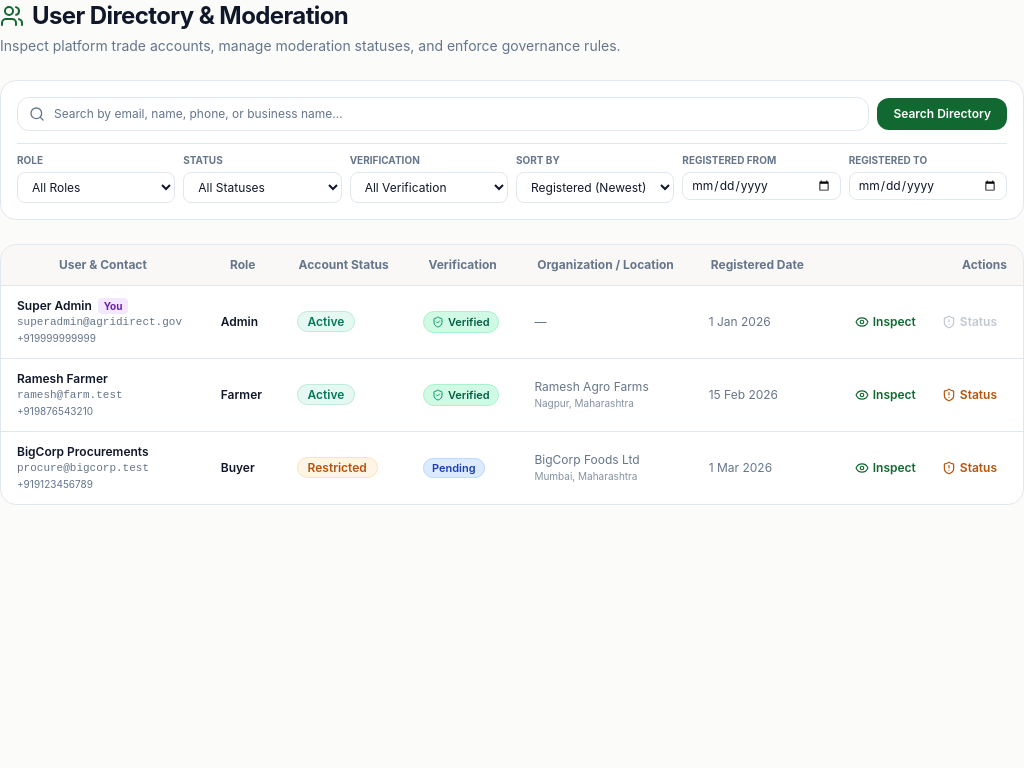
Scenario: AdminUsersPage › opens AdminUserDetailModal and renders full profile
This screenshot has width=1024, height=768.
Click the button with aria-label "Inspect user ramesh@farm.test": {"x": 885, "y": 395} left=845, top=383, right=926, bottom=407
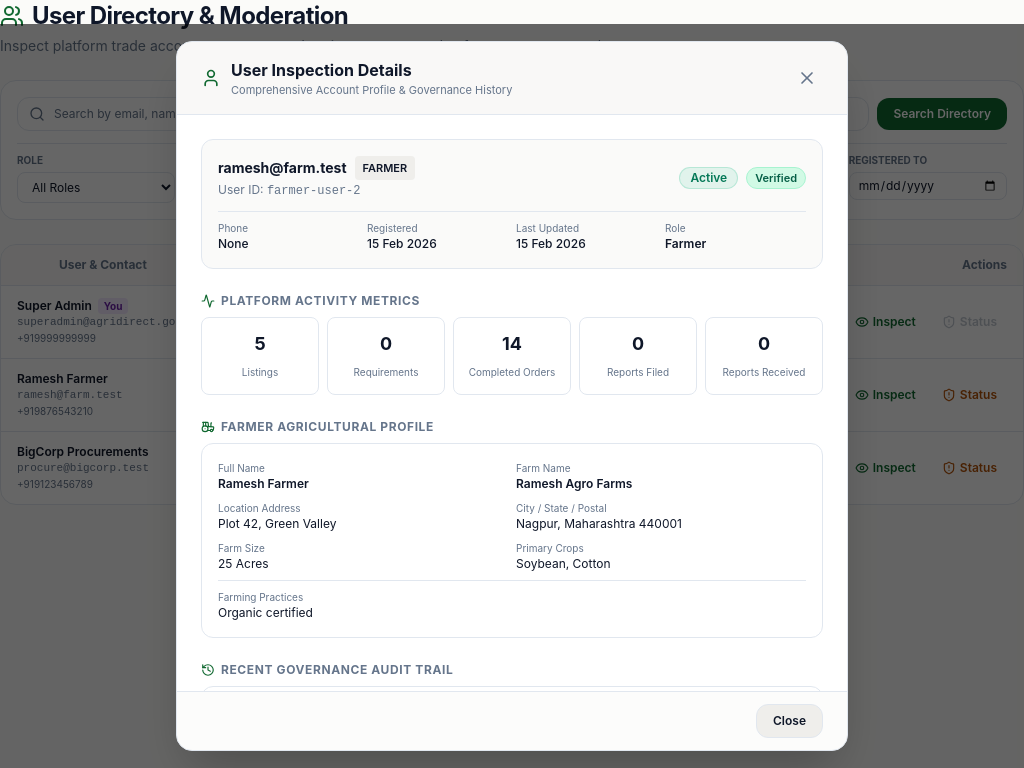
Check: the heading "User Inspection Details" is shown, box left=231, top=60, right=412, bottom=80
Check: the heading "Farmer Agricultural Profile" is shown, box left=201, top=419, right=434, bottom=434
Check: the text "Soybean, Cotton" is shown, box left=516, top=556, right=611, bottom=571
